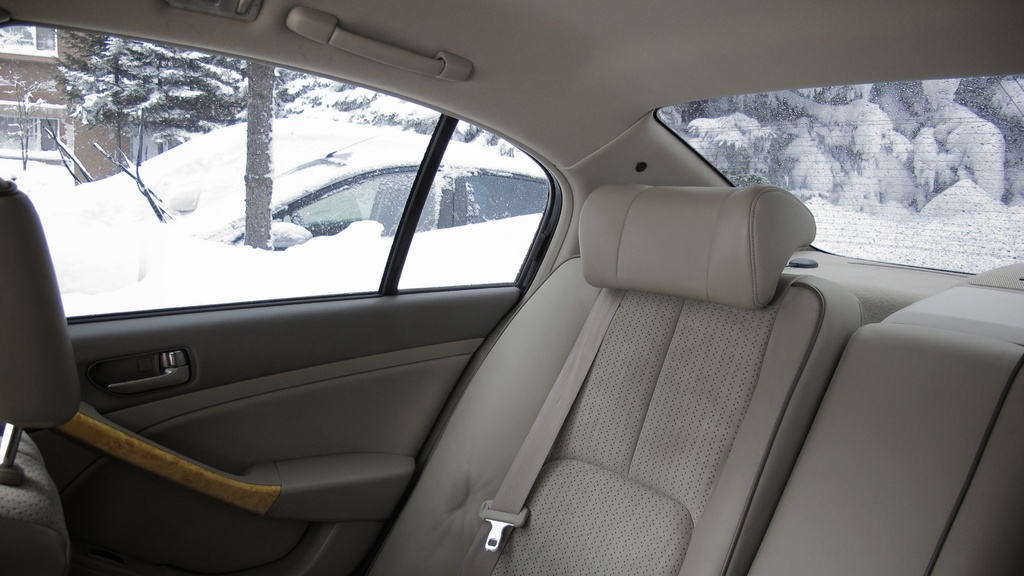Car: (0, 0, 1023, 574)
